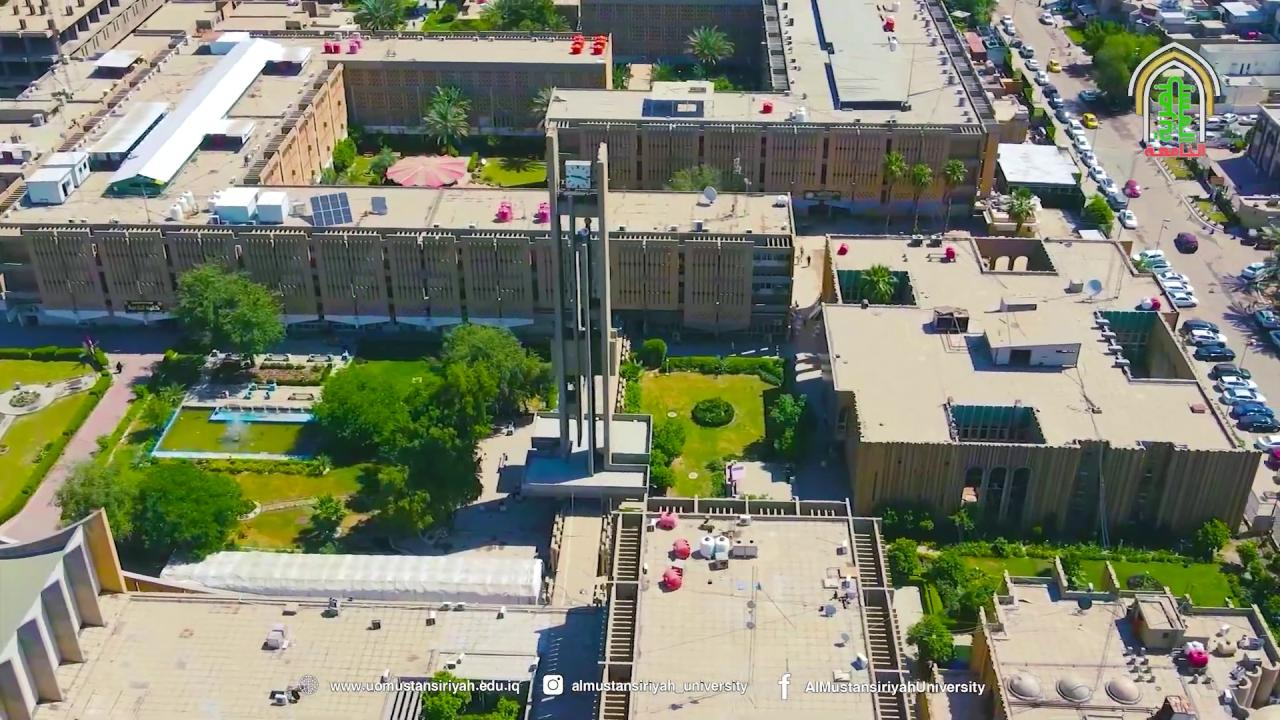car: (1231, 415, 1280, 434), (1181, 317, 1222, 335), (1216, 376, 1259, 393), (1209, 362, 1252, 379), (1198, 345, 1237, 363), (1189, 330, 1228, 348), (1233, 402, 1275, 417), (1222, 390, 1266, 404), (1131, 249, 1163, 266), (1254, 308, 1279, 328), (1175, 232, 1198, 253), (1170, 293, 1202, 308), (1142, 259, 1172, 275), (1097, 177, 1121, 196), (1157, 269, 1189, 283), (1242, 260, 1266, 278), (1118, 209, 1138, 229), (1075, 3, 1099, 19), (1089, 164, 1106, 185), (1165, 283, 1195, 294), (1255, 435, 1280, 448), (1122, 179, 1140, 197), (1080, 151, 1097, 169), (1071, 134, 1090, 150), (1266, 330, 1280, 350), (1083, 113, 1099, 130), (1067, 120, 1082, 137), (1079, 89, 1096, 103), (1054, 107, 1072, 120), (1048, 94, 1064, 108), (1048, 58, 1062, 74), (1036, 71, 1050, 83), (1045, 86, 1058, 96)
fountain: (149, 392, 325, 461)
tree: (293, 321, 553, 540), (126, 458, 251, 561), (173, 257, 287, 365), (309, 357, 415, 464), (436, 322, 550, 419), (51, 456, 136, 544), (218, 279, 286, 366), (1092, 30, 1161, 106), (420, 83, 472, 156), (476, 0, 570, 33), (508, 348, 552, 416), (905, 612, 956, 669), (132, 380, 185, 432), (767, 391, 807, 457), (419, 668, 471, 718), (1251, 223, 1279, 310), (684, 24, 735, 67), (940, 157, 967, 232), (352, 0, 417, 31), (1080, 17, 1126, 59), (906, 162, 932, 234), (1194, 516, 1231, 560), (651, 418, 685, 465), (879, 149, 908, 204), (309, 491, 347, 531), (1081, 192, 1114, 238), (861, 262, 897, 303), (886, 537, 921, 578), (366, 144, 401, 184), (666, 163, 716, 191), (1005, 185, 1034, 233), (648, 448, 677, 496), (691, 396, 734, 427), (136, 393, 170, 432), (619, 358, 643, 413), (527, 85, 555, 129), (946, 506, 974, 543), (941, 157, 967, 195), (331, 136, 357, 174), (754, 355, 784, 386), (638, 337, 667, 369), (704, 456, 726, 496), (487, 694, 520, 718), (971, 0, 997, 27), (1235, 538, 1258, 568), (1257, 223, 1279, 250)
